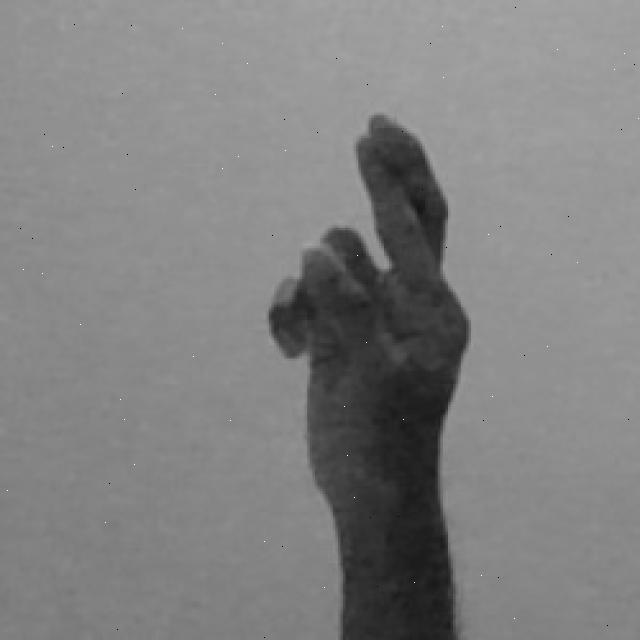R: (263, 107, 474, 640)
